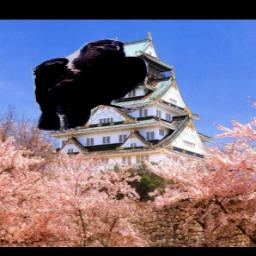Crow: (31, 38, 150, 132)
